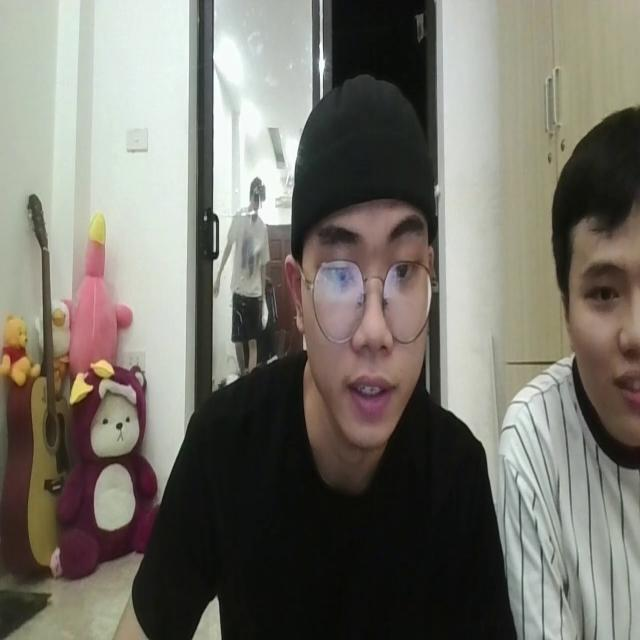extra_person: (487, 89, 640, 640)
student: (134, 68, 506, 640)
